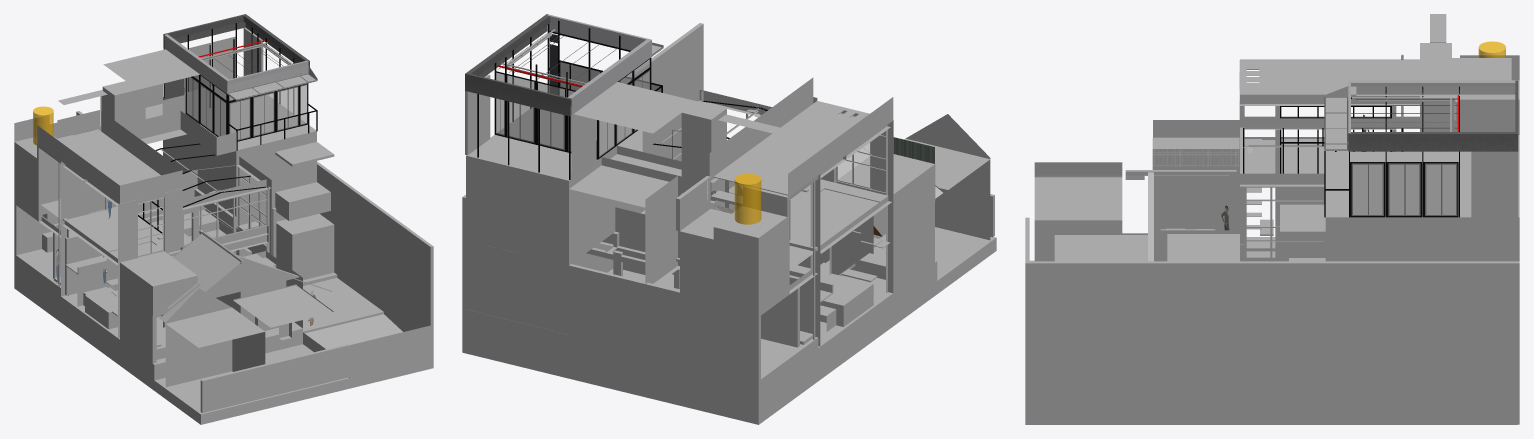
Rendered from RBT_v01.glb.
3 renders of one model, left to right at view 1: azimuth 30°, elevation 25°; view 2: azimuth 150°, elevation 25°; view 3: azimuth 270°, elevation 25°, orthographic. The views are drawn at different scales.
Visible parts, largest first — view 1: Group#77 [31754], Group#394 [31709], Group#349 [31686], Component#31 [9700] (×6), Group#120 [14651], Group#9 [31764], Group#14 [31768], Group#397 [31642], [8017], Group#10 [31765], Group#496 [31682], Group#79 [31755] (+51 smaller); view 2: Group#394 [31709], Group#9 [31764], Group#61 [31669], Group#8 [31695], Group#62 [31773], Group#409 [31656], Group#496 [31682], Group#120 [14651], Group#77 [31754], Group#30 [31757], Group#54 [31774], Group#60 [31772] (+43 smaller); view 3: Group#77 [31754], Group#394 [31709], Component#31 [9700] (×3), Group#409 [31656], [8017], Group#496 [31682], Group#219 [9812], Group#235 [30707], Group#205 [31690], Group#113 [31649], Group#395 [31775], Group#559 [31743] (+22 smaller).
Boxes of the visible parts, x1=… form: Group#77 [31754]: x1=317, y1=161, x2=433, y2=368; Group#394 [31709]: x1=163, y1=86, x2=316, y2=216; Group#349 [31686]: x1=200, y1=344, x2=349, y2=412; Component#31 [9700] (×6): x1=186, y1=76, x2=299, y2=141; Group#120 [14651]: x1=165, y1=324, x2=265, y2=411; Group#9 [31764]: x1=14, y1=268, x2=302, y2=390; Group#14 [31768]: x1=154, y1=344, x2=349, y2=424; Group#397 [31642]: x1=276, y1=213, x2=334, y2=280; [8017]: x1=165, y1=288, x2=264, y2=347; Group#10 [31765]: x1=303, y1=314, x2=430, y2=388; Group#496 [31682]: x1=120, y1=261, x2=156, y2=363; Group#79 [31755]: x1=349, y1=325, x2=430, y2=376; Group#394 [31709]: x1=466, y1=88, x2=662, y2=265; Group#9 [31764]: x1=466, y1=268, x2=937, y2=424; Group#61 [31669]: x1=645, y1=282, x2=760, y2=396; Group#8 [31695]: x1=680, y1=209, x2=789, y2=316; Group#62 [31773]: x1=569, y1=264, x2=645, y2=369; Group#409 [31656]: x1=713, y1=101, x2=893, y2=195; Group#496 [31682]: x1=888, y1=163, x2=934, y2=292; Group#120 [14651]: x1=873, y1=159, x2=990, y2=270; Group#77 [31754]: x1=462, y1=23, x2=703, y2=353; Group#30 [31757]: x1=466, y1=240, x2=519, y2=321; Group#54 [31774]: x1=466, y1=253, x2=568, y2=347; Group#60 [31772]: x1=645, y1=175, x2=681, y2=284; Group#77 [31754]: x1=1025, y1=261, x2=1519, y2=424; Group#394 [31709]: x1=1325, y1=165, x2=1519, y2=261; Component#31 [9700] (×3): x1=1350, y1=162, x2=1458, y2=217; Group#409 [31656]: x1=1240, y1=59, x2=1419, y2=94; [8017]: x1=1034, y1=162, x2=1122, y2=220; Group#496 [31682]: x1=1153, y1=137, x2=1239, y2=230; Group#219 [9812]: x1=1348, y1=132, x2=1517, y2=151; Group#235 [30707]: x1=1471, y1=151, x2=1518, y2=218; Group#205 [31690]: x1=1154, y1=230, x2=1239, y2=261; Group#113 [31649]: x1=1054, y1=233, x2=1147, y2=261; Group#395 [31775]: x1=1325, y1=165, x2=1451, y2=189; Group#559 [31743]: x1=1153, y1=140, x2=1239, y2=169.
Bounding box in the file's own units: 13.06 × 10.47 × 16.19.
Materials: 49 (10 with a texture image).
